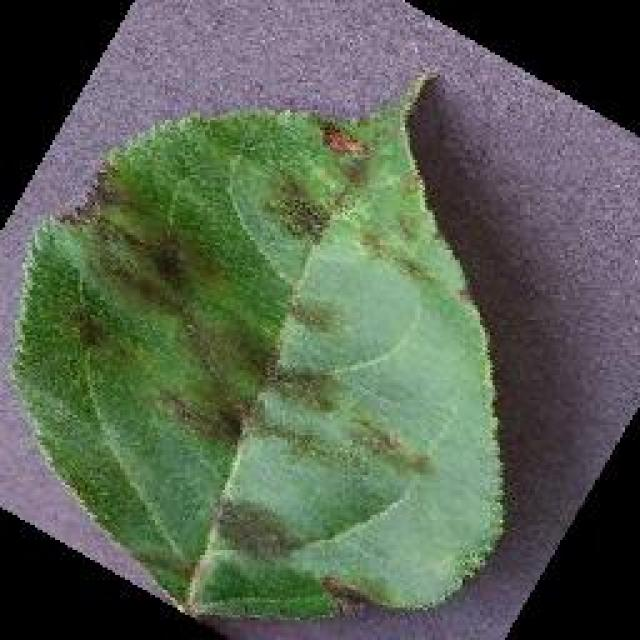apple scab disease: (8, 68, 510, 622)
